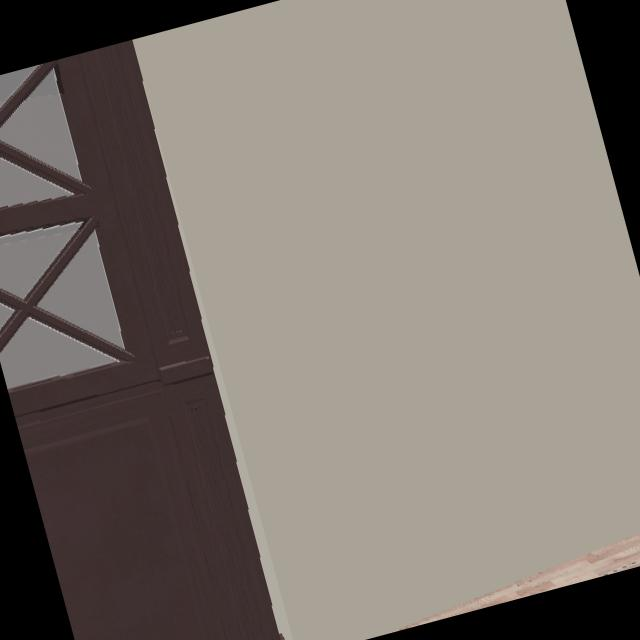bookshelf: (0, 39, 283, 640)
